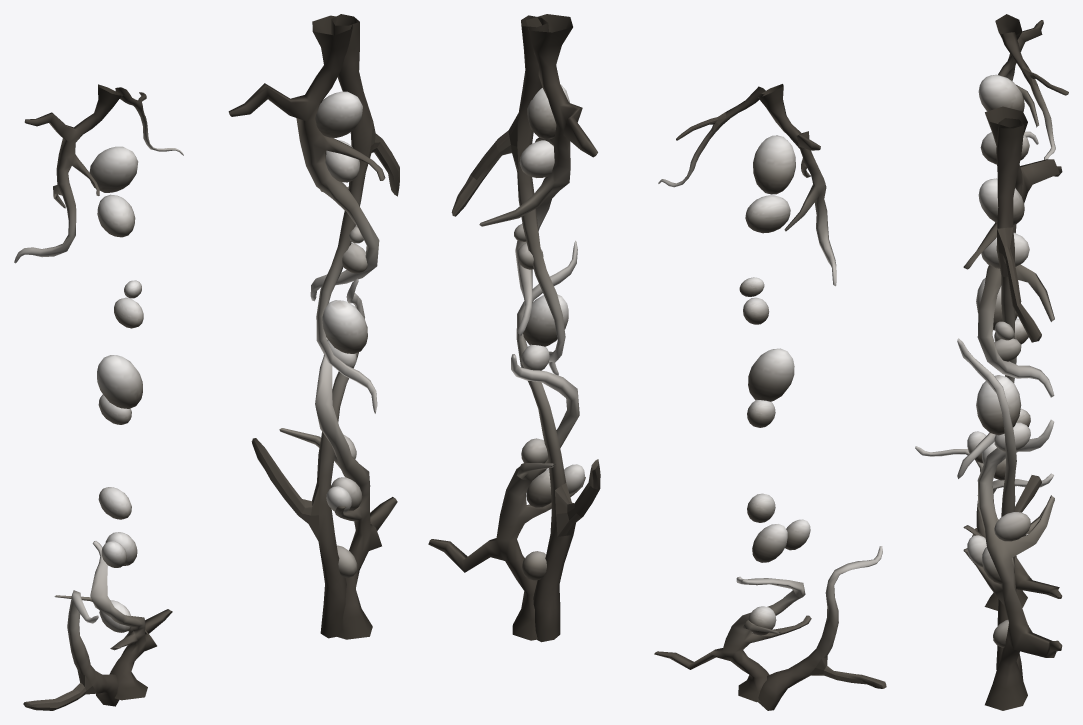
Rendered from M_Obstacle_Dash_01.fbx.
3 renders of one model, left to right at view 1: azimuth 30°, elevation 25°; view 2: azimuth 150°, elevation 25°; view 3: azimuth 270°, elevation 25°, orthographic. The views are drawn at different scales.
Visible parts, largest first — view 1: M_Interactable_Obstacle_DashClosed, M_Root_Vines_ObstacleDashOpenVines, Environment_ObstacleDashOpen_Stone_07, Environment_ObstacleDashOpen_Stone_10, Environment_ObstacleDashOpen_Stone_01, Environment_ObstacleDashOpen_Stone_04, Environment_ObstacleDashOpen_Stone_08; view 2: M_Interactable_Obstacle_DashClosed, M_Root_Vines_ObstacleDashOpenVines, Environment_ObstacleDashOpen_Stone_10, Environment_ObstacleDashOpen_Stone_07, Environment_ObstacleDashOpen_Stone_01, Environment_ObstacleDashOpen_Stone_06; view 3: M_Interactable_Obstacle_DashClosed, M_Root_Vines_ObstacleDashOpenVines, Environment_ObstacleDashOpen_Stone_10, Environment_ObstacleDashOpen_Stone_01, Environment_ObstacleDashOpen_Stone_07, Environment_ObstacleDashOpen_Stone_06, Environment_ObstacleDashOpen_Stone_05, Environment_ObstacleDashOpen_Stone_09.
Boxes of the visible parts, box(x1,y1,x2,y2) form: M_Interactable_Obstacle_DashClosed: box(228, 14, 399, 639); M_Root_Vines_ObstacleDashOpenVines: box(14, 84, 183, 710); Environment_ObstacleDashOpen_Stone_07: box(97, 355, 142, 408); Environment_ObstacleDashOpen_Stone_10: box(89, 146, 138, 192); Environment_ObstacleDashOpen_Stone_01: box(97, 194, 135, 237); Environment_ObstacleDashOpen_Stone_04: box(98, 487, 131, 519); Environment_ObstacleDashOpen_Stone_08: box(114, 297, 143, 328); M_Interactable_Obstacle_DashClosed: box(428, 14, 600, 642); M_Root_Vines_ObstacleDashOpenVines: box(654, 84, 886, 710); Environment_ObstacleDashOpen_Stone_10: box(753, 135, 795, 194); Environment_ObstacleDashOpen_Stone_07: box(748, 348, 794, 401); Environment_ObstacleDashOpen_Stone_01: box(745, 195, 790, 233); Environment_ObstacleDashOpen_Stone_06: box(752, 524, 787, 562); M_Interactable_Obstacle_DashClosed: box(957, 106, 1062, 710); M_Root_Vines_ObstacleDashOpenVines: box(915, 14, 1068, 610); Environment_ObstacleDashOpen_Stone_10: box(978, 74, 1024, 111); Environment_ObstacleDashOpen_Stone_01: box(980, 132, 1029, 164); Environment_ObstacleDashOpen_Stone_07: box(976, 277, 1021, 330); Environment_ObstacleDashOpen_Stone_06: box(982, 442, 1005, 480); Environment_ObstacleDashOpen_Stone_05: box(967, 431, 986, 463); Environment_ObstacleDashOpen_Stone_09: box(994, 318, 1028, 344).
Size of the model in its own units: 394 by 570 by 134.
